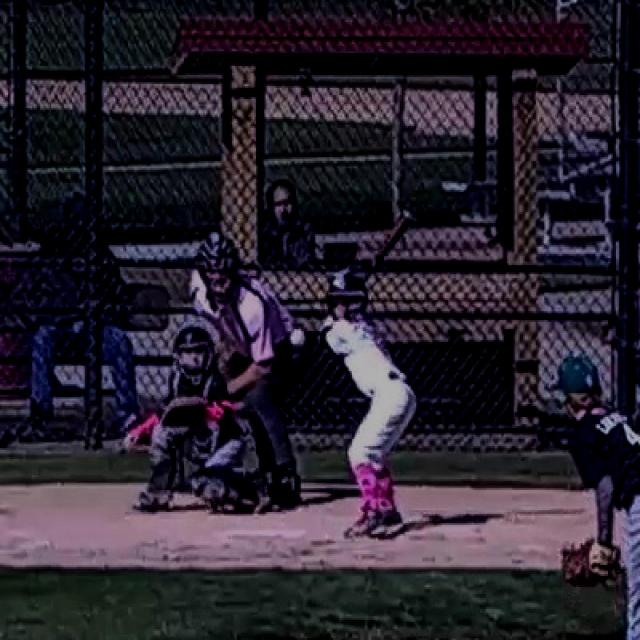baseball: (289, 330, 305, 345)
